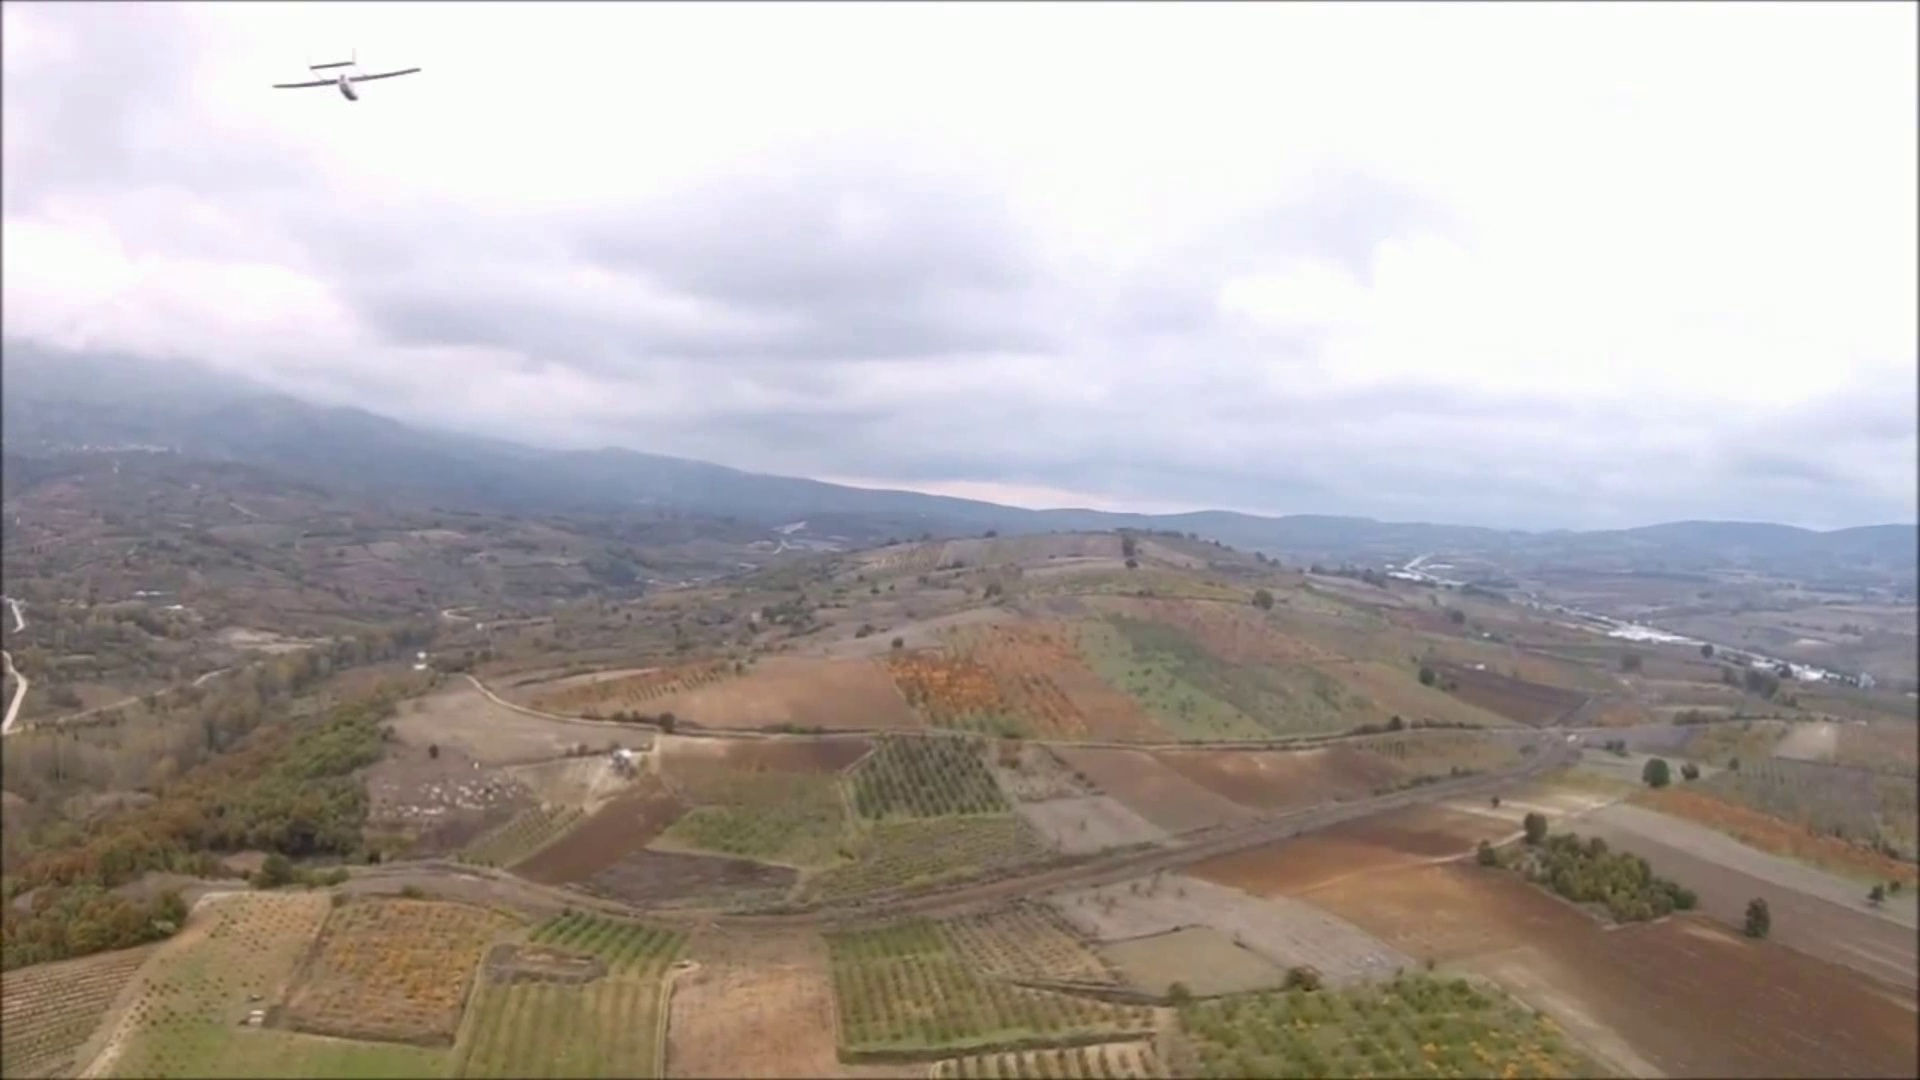airplane: (272, 55, 425, 102)
